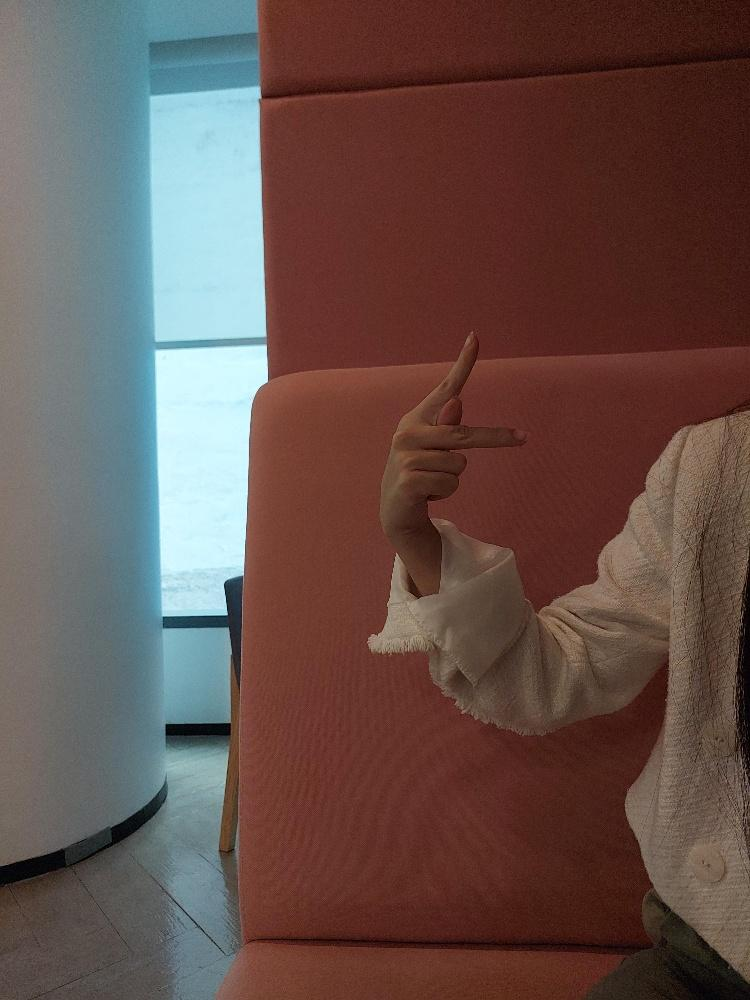k: (379, 332, 525, 526)
